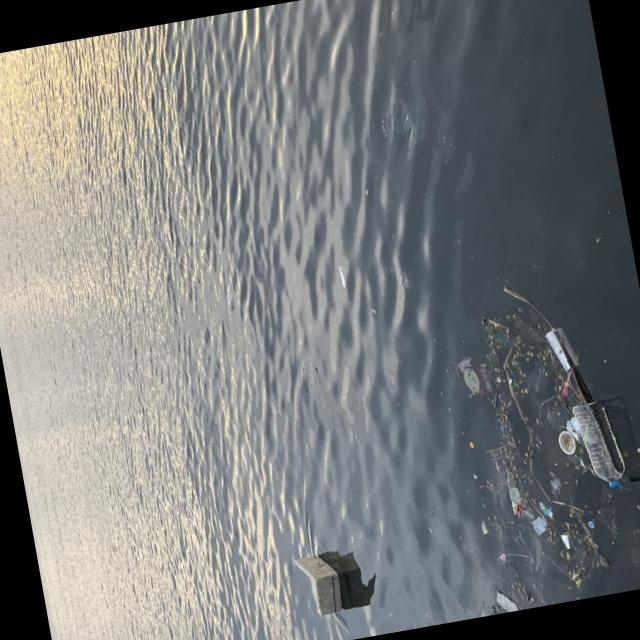foam: (294, 550, 344, 618)
plastic: (571, 397, 630, 490)
plastic bottle: (495, 512, 564, 582), (387, 96, 428, 146), (452, 352, 493, 401), (544, 322, 584, 372), (544, 388, 580, 432), (523, 356, 555, 394), (505, 474, 528, 518), (530, 391, 551, 422), (556, 428, 578, 456), (595, 478, 615, 502), (547, 466, 564, 494), (532, 514, 548, 536), (538, 500, 554, 518), (560, 532, 571, 550), (337, 264, 346, 286), (634, 443, 640, 464), (478, 519, 486, 533)
unknow: (494, 584, 520, 614), (493, 326, 515, 348)
